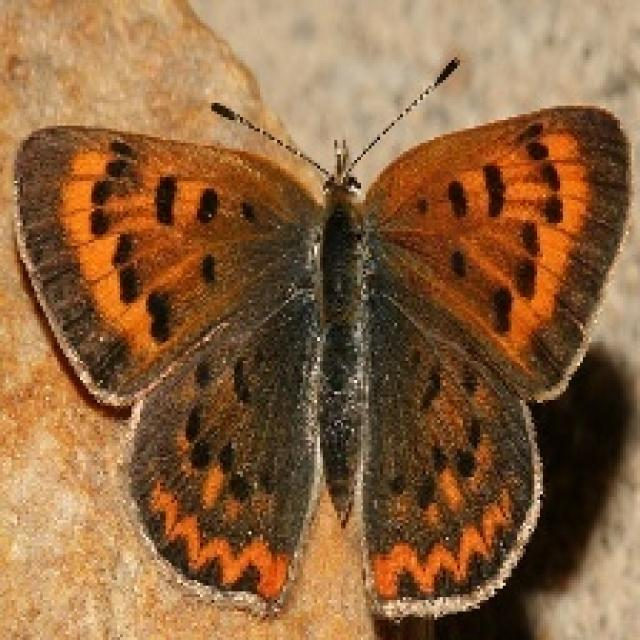butterfly: (9, 51, 634, 623)
